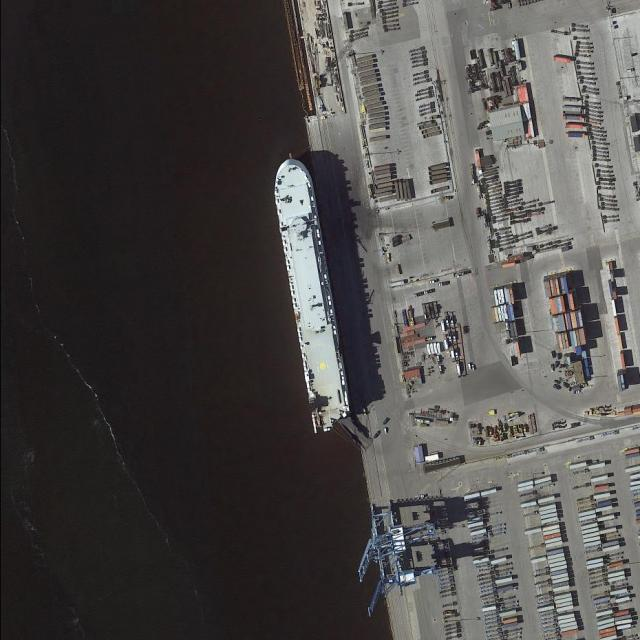RoRo: (266, 145, 355, 438)
